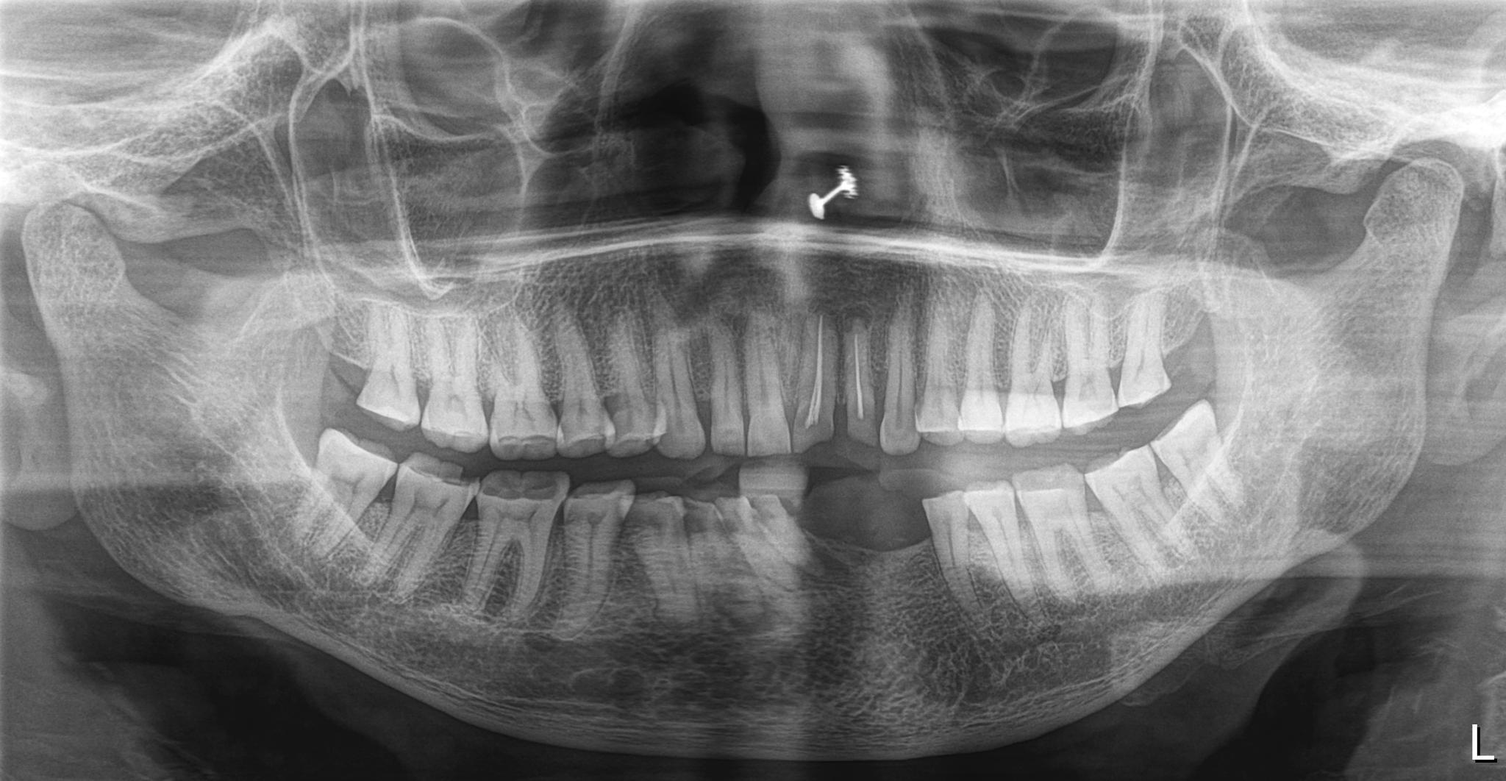Dental Caries: (548, 507, 592, 545)
Endodontically Treated Tooth: (802, 309, 883, 440)
Missing Tooth: (873, 493, 933, 617), (805, 493, 866, 610), (1175, 292, 1213, 379)
